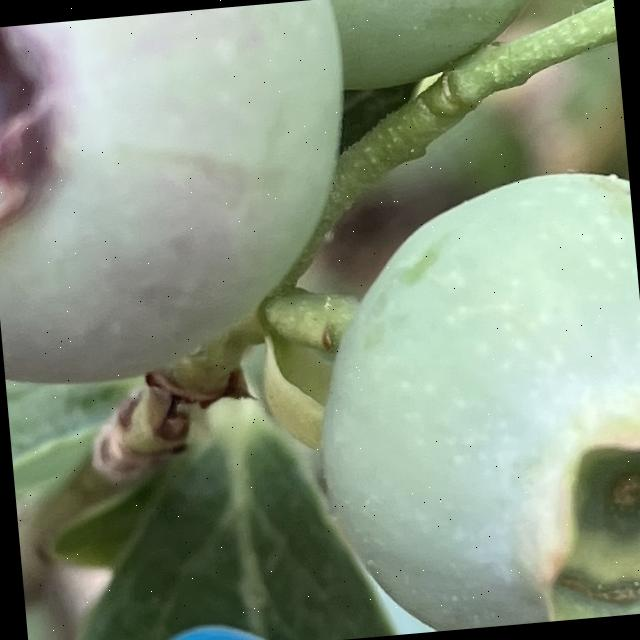Blueberries: (285, 160, 640, 640), (0, 0, 367, 392)
